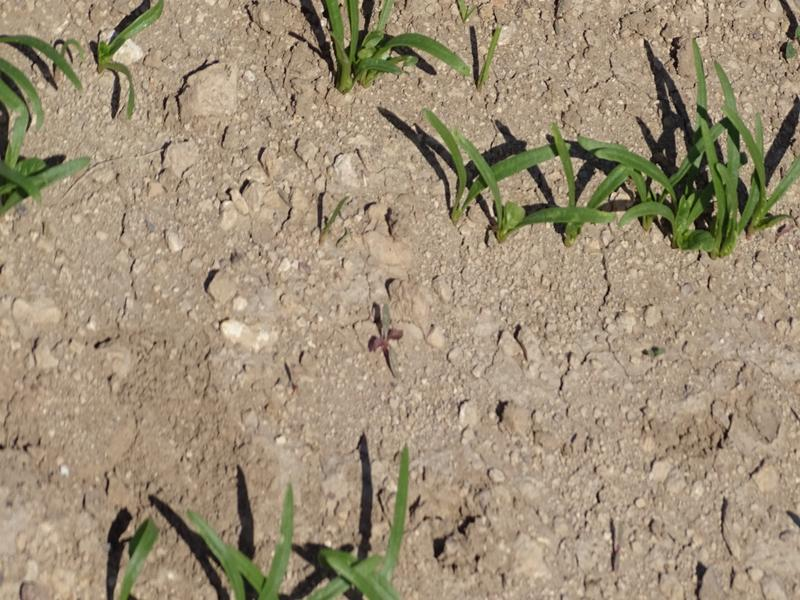Espinaca: (416, 71, 786, 259), (122, 490, 409, 597), (1, 9, 162, 182), (304, 1, 471, 74)
